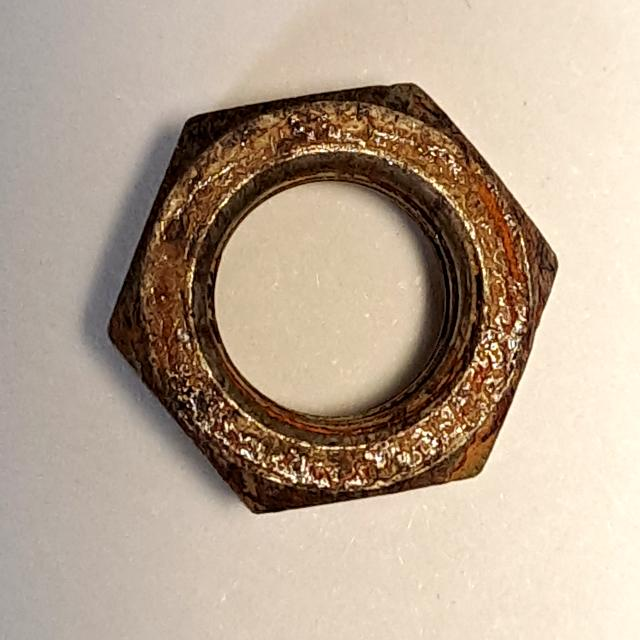Rust: (94, 66, 570, 540)
